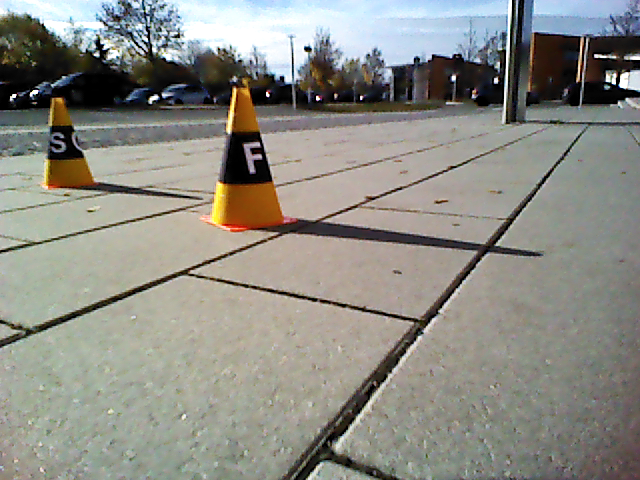yellowcone: (214, 88, 280, 223), (42, 96, 92, 187)
